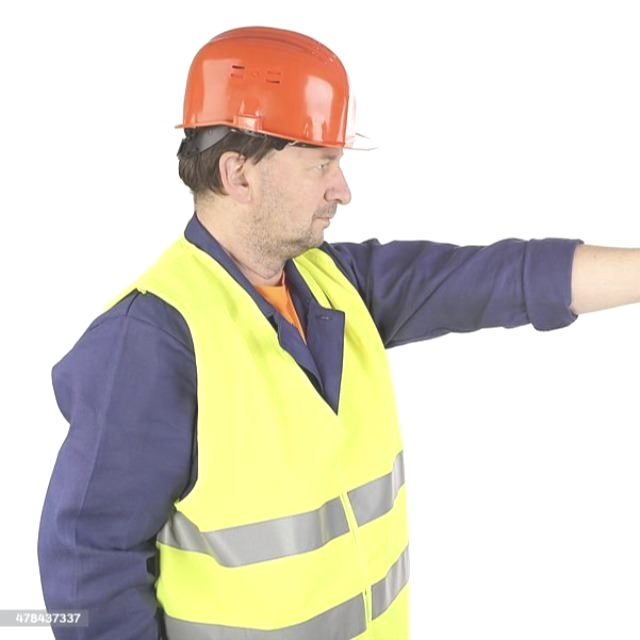Con_Casco: (172, 23, 374, 257)
Con_Chaleco: (107, 251, 416, 640)
